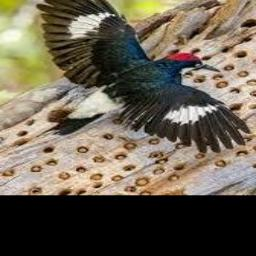Woodpecker: (37, 0, 251, 153)
